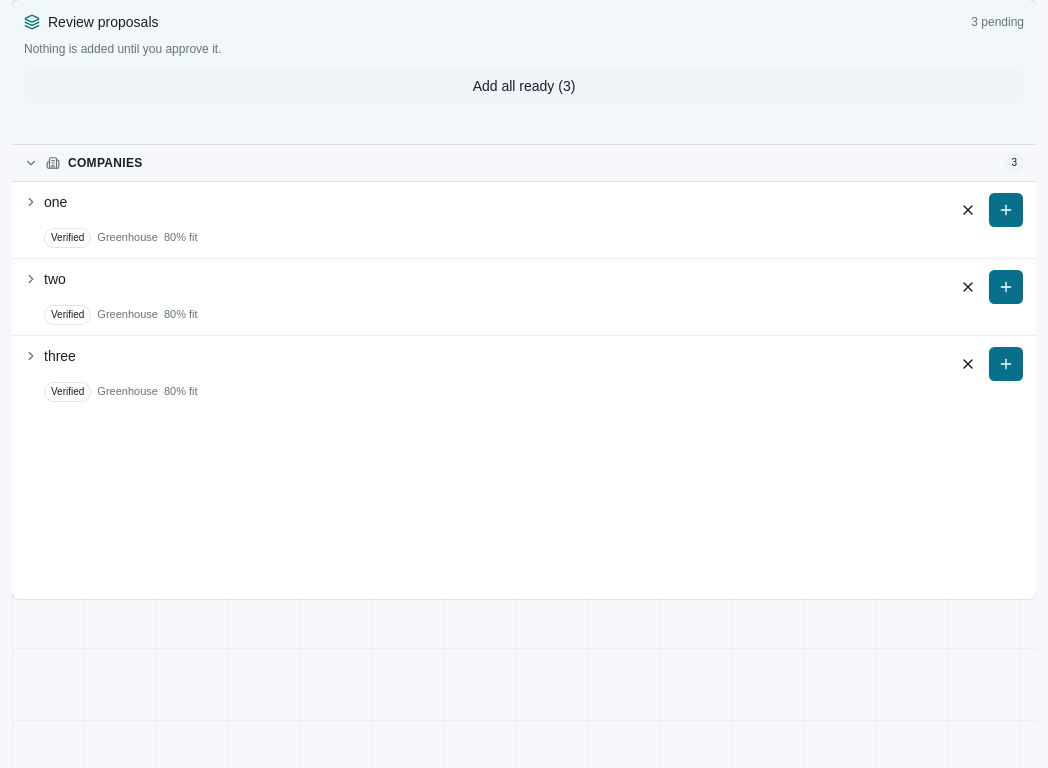
Scenario: continues a sequential ready batch after a row fails
Click the button with aria-label "Add all ready proposals".
click(524, 86)  # box [24, 68, 1024, 104]
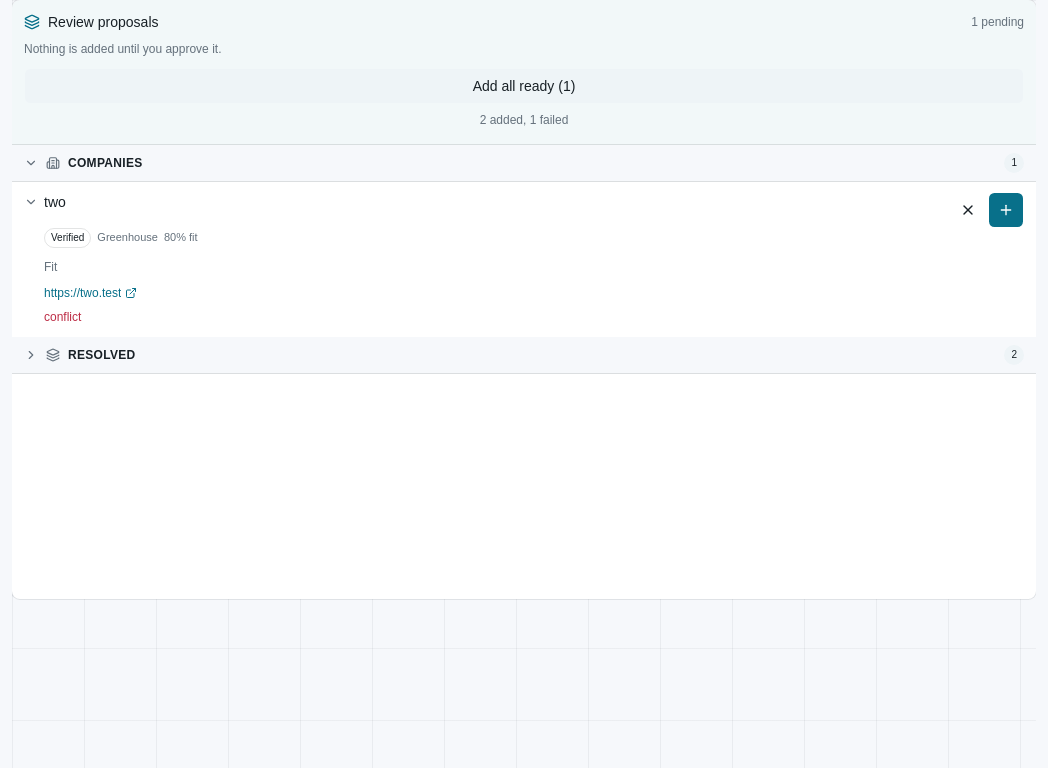
expect the text "2 added, 1 failed" is shown: met, box [480, 112, 568, 126]
expect the message reads "conflict": met, box [44, 310, 81, 324]
